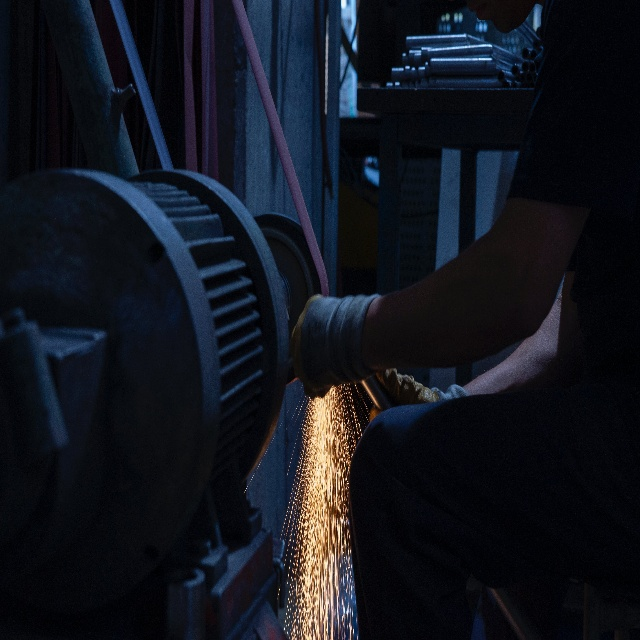Guantes: (290, 291, 369, 399), (375, 367, 461, 405)
